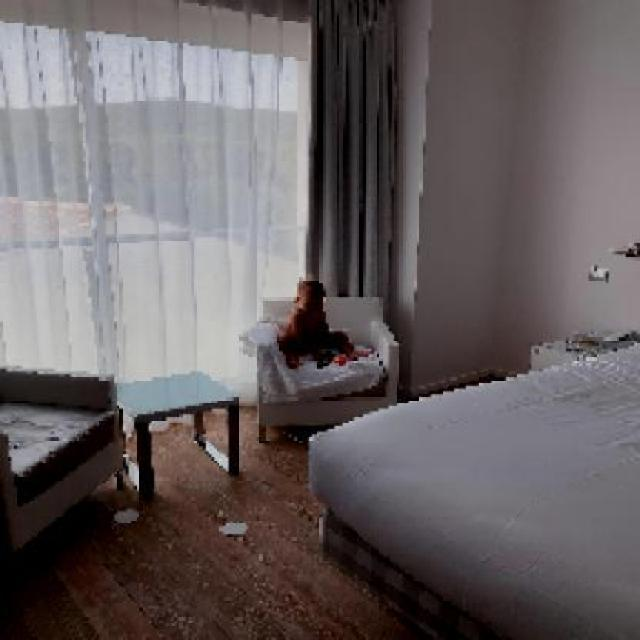child: (277, 275, 377, 371)
